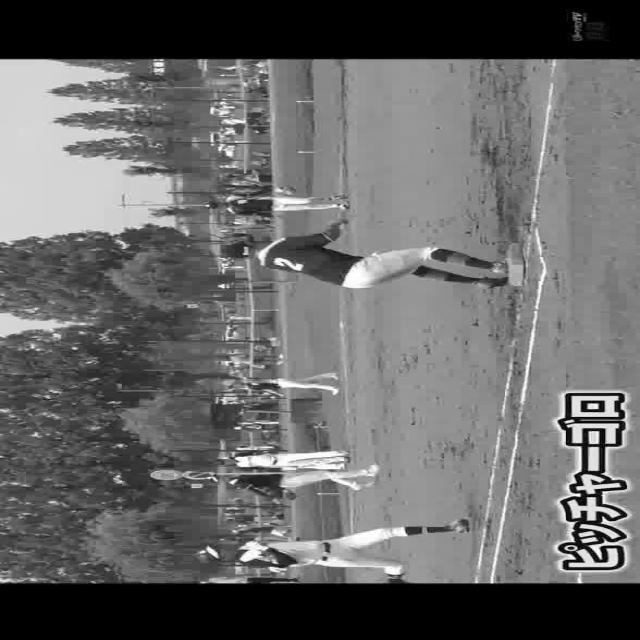base: (498, 244, 526, 286)
baseball_glove: (220, 226, 258, 246), (283, 486, 295, 504)
shoe: (446, 514, 478, 536), (471, 272, 513, 285), (344, 478, 382, 492), (490, 252, 510, 274), (363, 462, 380, 478)
